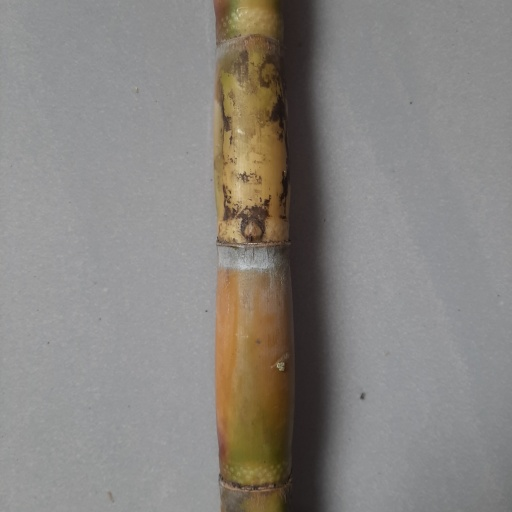Bud: (242, 218, 267, 242)
